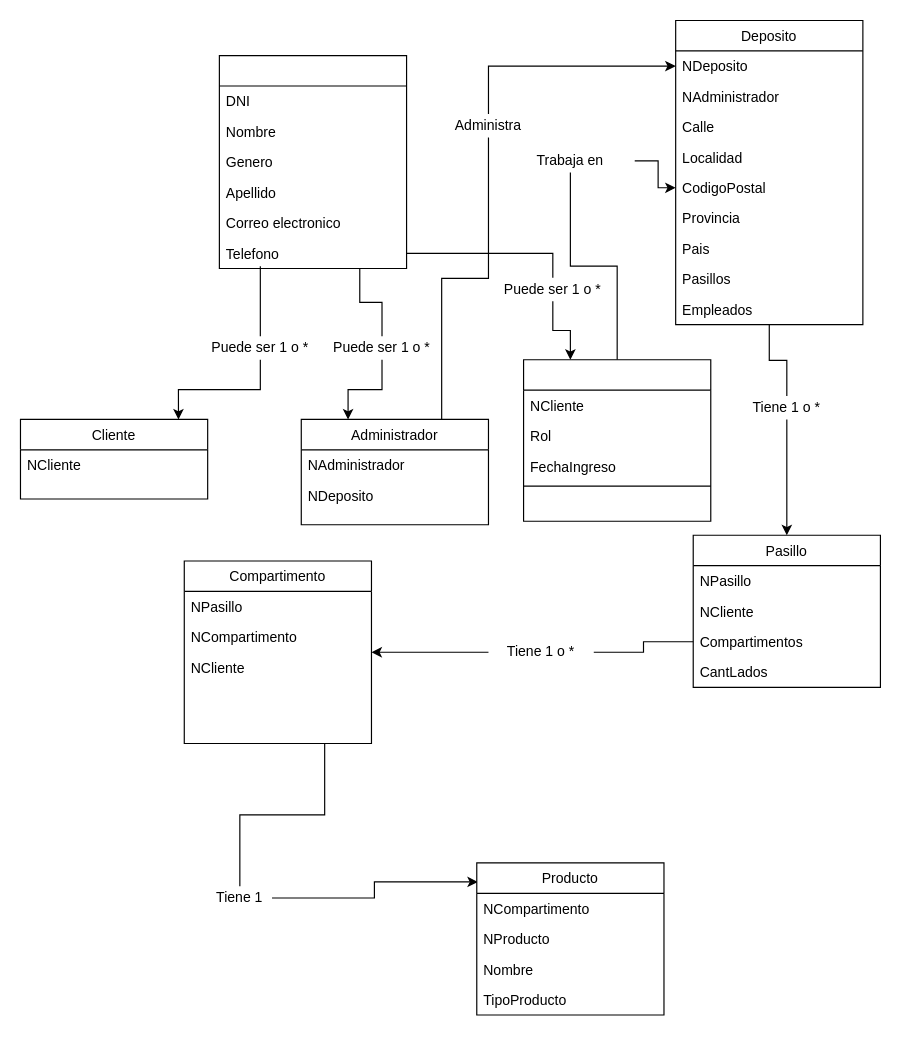
This 901x1039 diagram has some shape labels left out. The shapes that lost their labels are listed below. From the top down, each one's box as (x1, y1, x2, y2) in pixels, then its label:
(218, 54, 407, 269): Persona
(522, 359, 711, 521): Empleado
